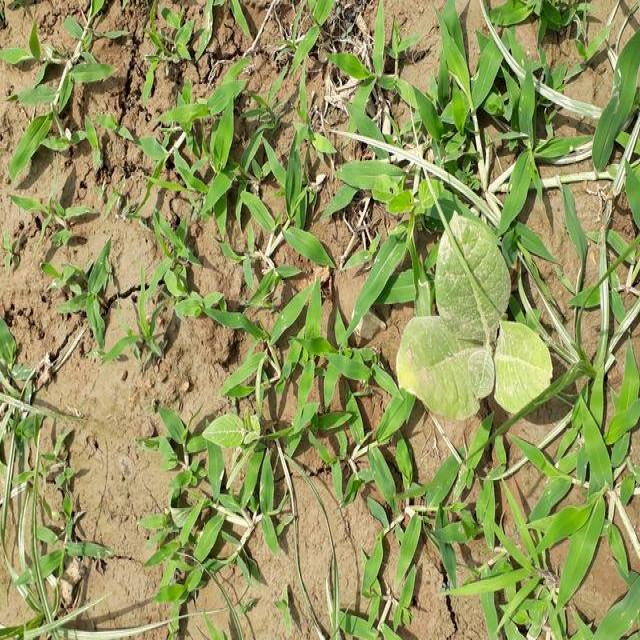crop: (389, 199, 562, 416)
